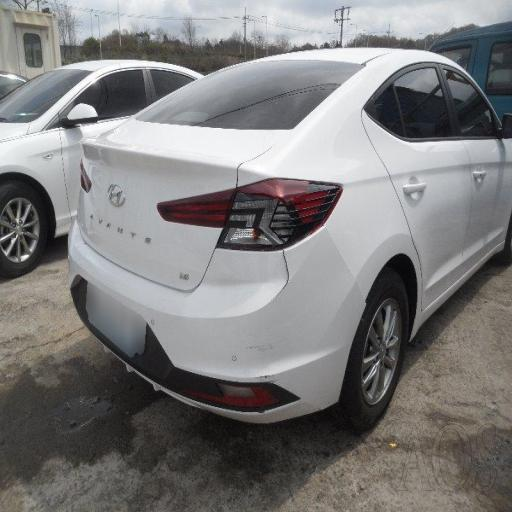broken: (234, 181, 332, 336)
